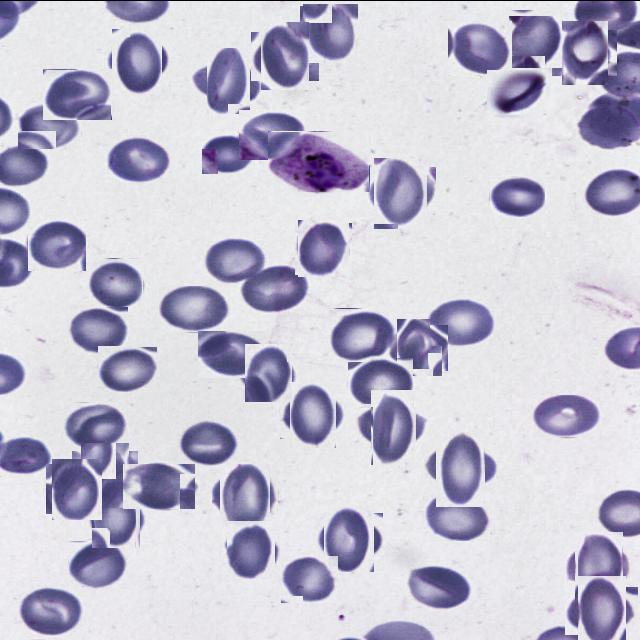red blood cell: (428, 434, 492, 498), (369, 162, 432, 224), (330, 307, 398, 361), (364, 397, 424, 457), (572, 580, 632, 640), (448, 20, 512, 75), (43, 68, 112, 119), (198, 329, 269, 377), (19, 585, 84, 637), (348, 356, 414, 407), (256, 26, 314, 84), (570, 536, 628, 594), (216, 466, 274, 524), (320, 508, 378, 566), (108, 32, 166, 90), (123, 462, 196, 508), (423, 490, 490, 540), (159, 284, 230, 331), (301, 4, 359, 61), (239, 109, 305, 159), (76, 446, 134, 502), (103, 134, 170, 182), (285, 386, 341, 443), (508, 9, 564, 66), (61, 401, 127, 449), (243, 264, 308, 312), (405, 565, 472, 611), (296, 220, 351, 276), (557, 24, 612, 80), (49, 460, 104, 516), (18, 100, 82, 148), (201, 52, 256, 107), (28, 218, 86, 270), (430, 298, 494, 345), (180, 419, 241, 467), (224, 522, 278, 576), (70, 304, 128, 354), (242, 346, 296, 399), (69, 539, 127, 588), (90, 492, 143, 545), (280, 554, 338, 602), (534, 394, 600, 436), (98, 345, 158, 391), (487, 70, 546, 116), (394, 321, 446, 373), (205, 236, 265, 281), (89, 257, 143, 306), (490, 175, 546, 216), (202, 133, 256, 173)
schizont: (268, 130, 370, 191)
